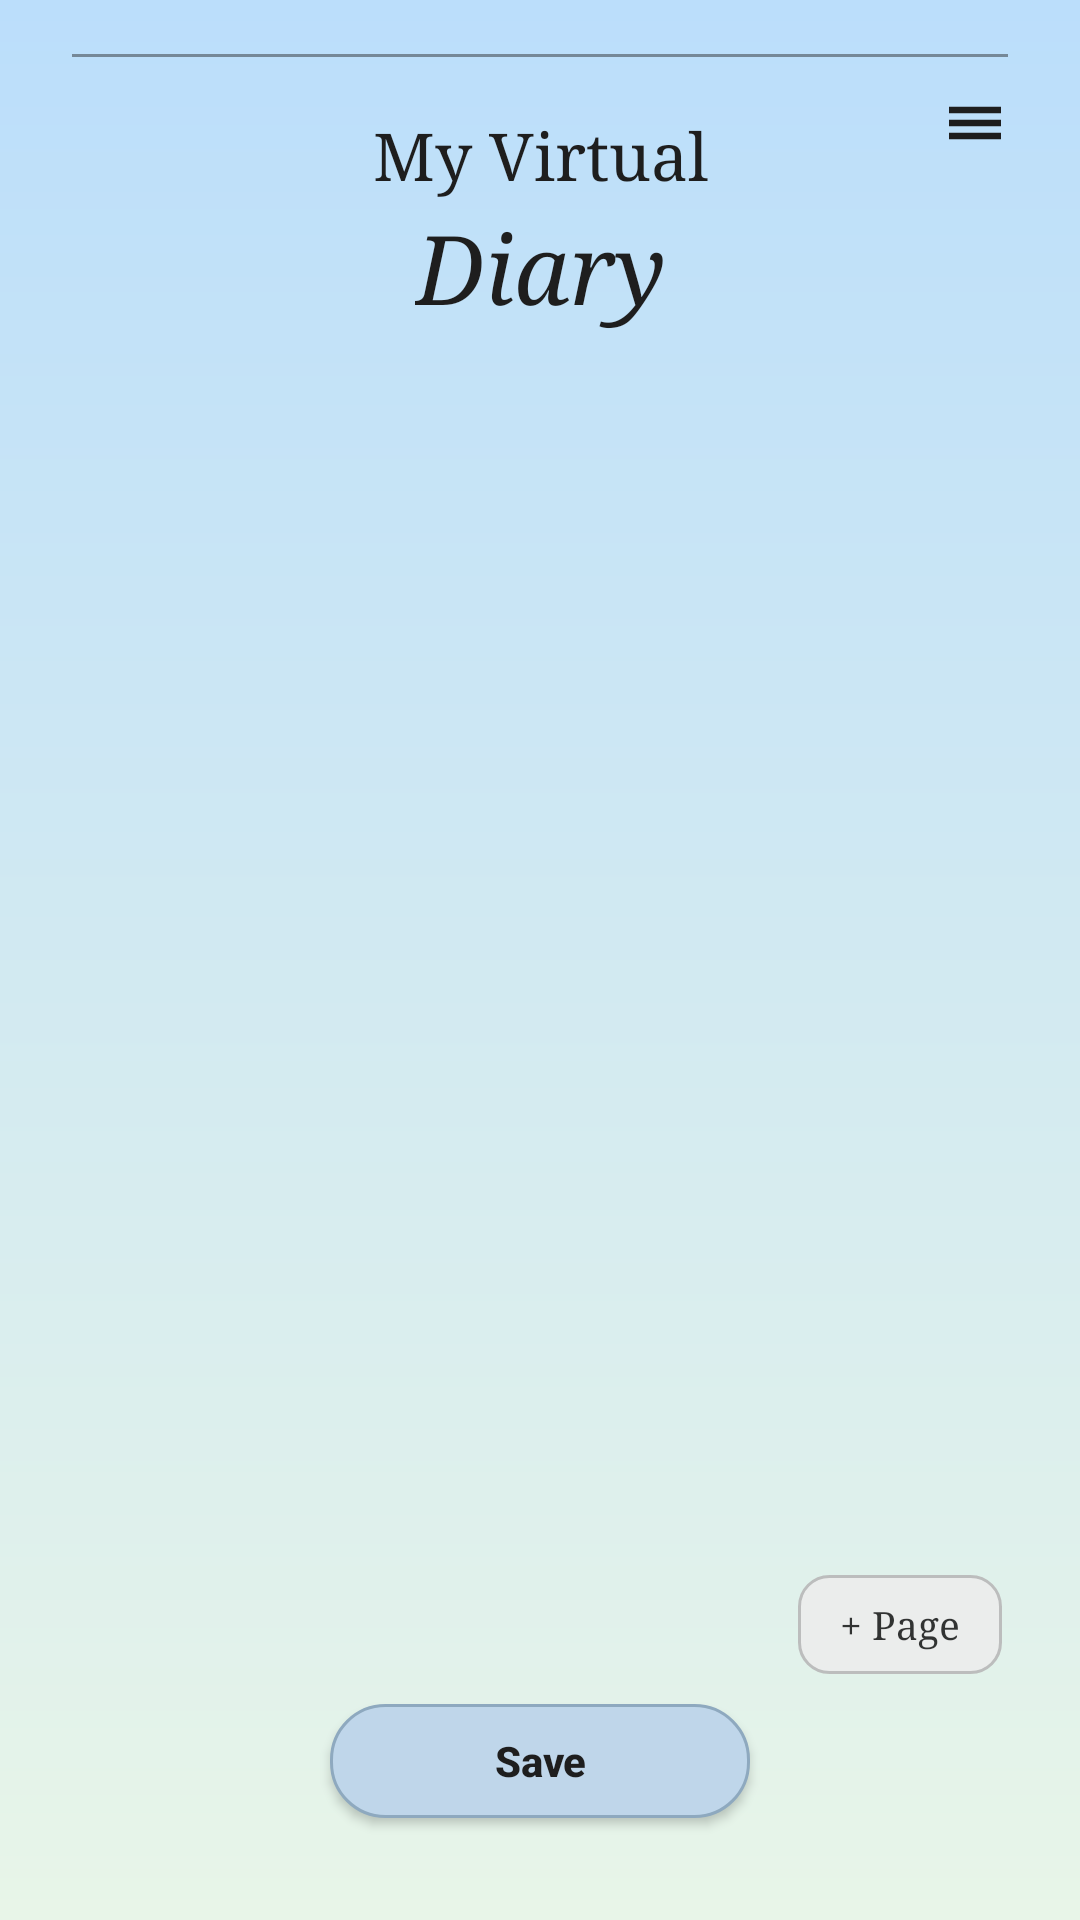

Screen size 1080px×1920px. Icon name, then its box in pixels as (x1, y1, x2, y2):
Menu: (949, 106, 1001, 140)
